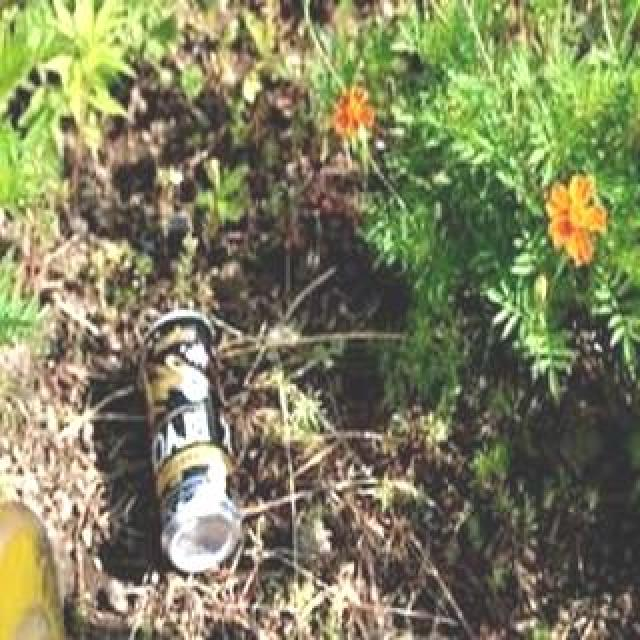Can: (146, 304, 248, 574)
